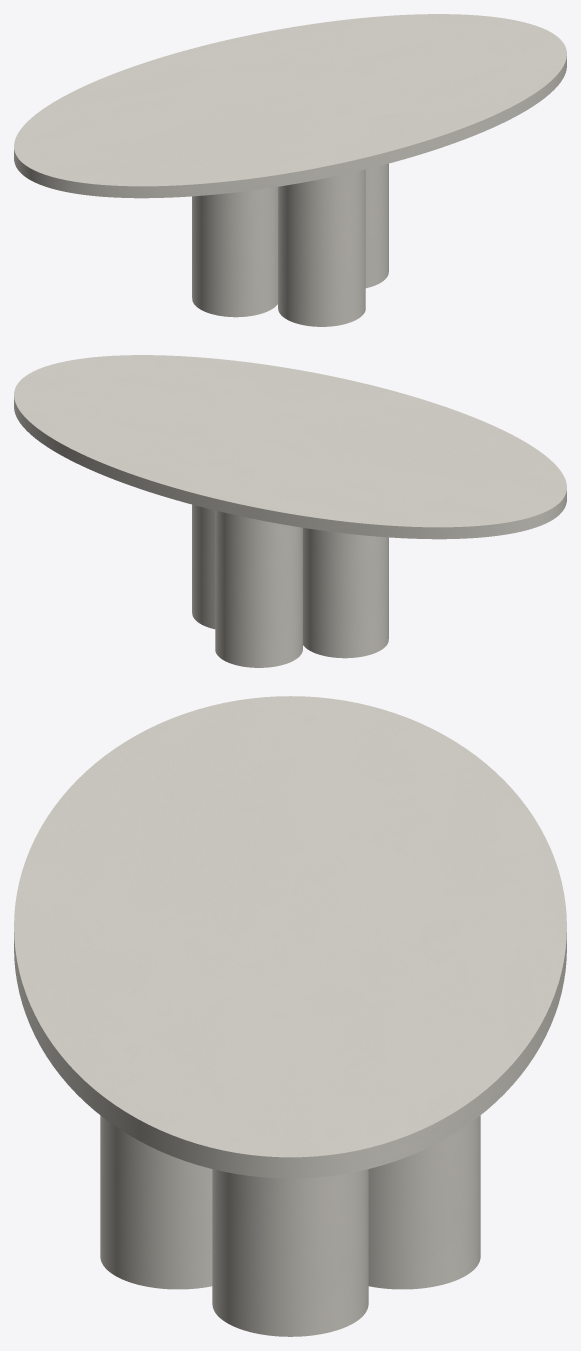
File: pale_ellips_standard_secondtable.glb
The picture shows the model from 3 angles, top to bottom: view 1: azimuth 30°, elevation 25°; view 2: azimuth 150°, elevation 25°; view 3: azimuth 270°, elevation 25°; orthographic projection. The views are drawn at different scales.
Parts seen in each view (by area): view 1: standard_ellips, secondtable; view 2: standard_ellips, secondtable; view 3: standard_ellips, secondtable.
Part boxes in pixels (x1=…): standard_ellips: x1=14, y1=14, x2=566, y2=198; secondtable: x1=192, y1=163, x2=388, y2=326; standard_ellips: x1=14, y1=355, x2=566, y2=539; secondtable: x1=192, y1=504, x2=388, y2=667; standard_ellips: x1=14, y1=696, x2=566, y2=1178; secondtable: x1=100, y1=1115, x2=480, y2=1336.
Size of the model in its own units: 7.5 by 2.5 by 3.8.
Materials: 1 (1 with a texture image).
